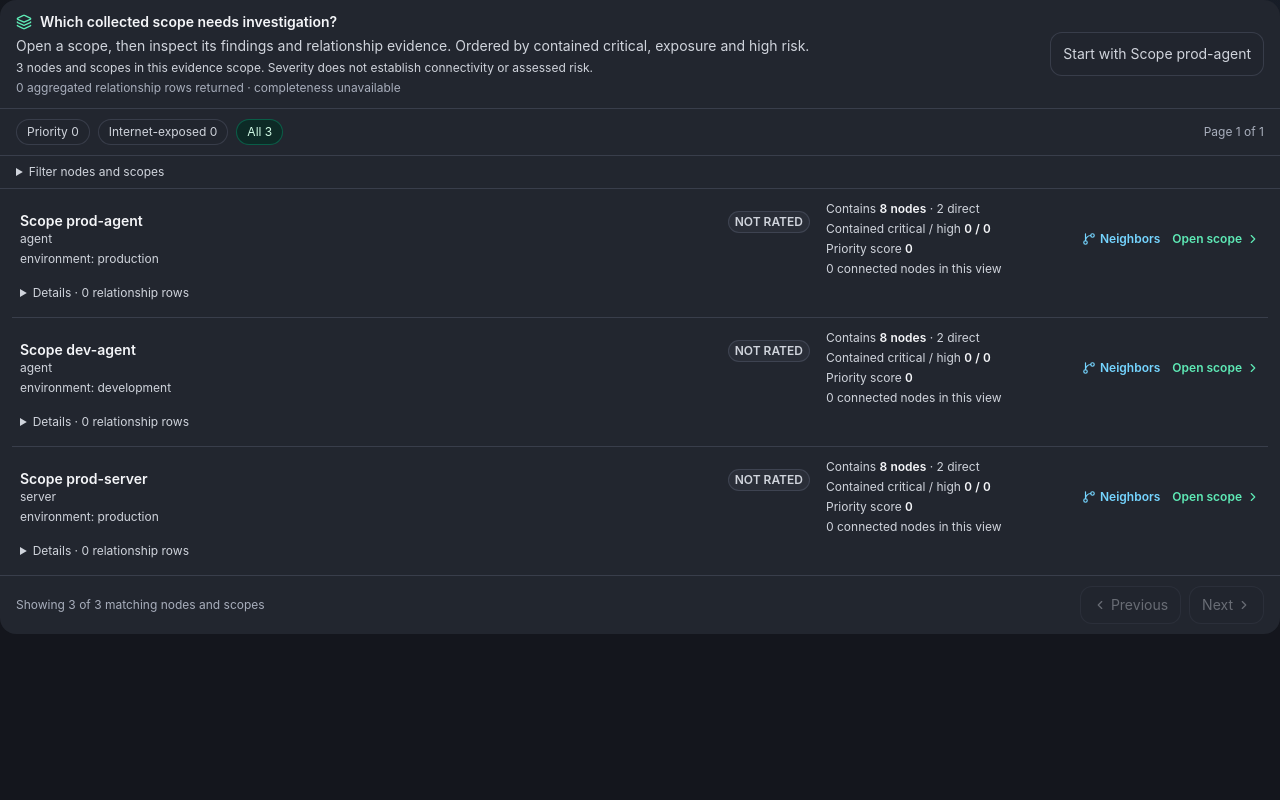
Test case: GraphRollupDecisionSurface › combines type and context search without inventing matches
Click the heading "Filter nodes and scopes": coordinates (97, 172) [29, 164, 164, 179]
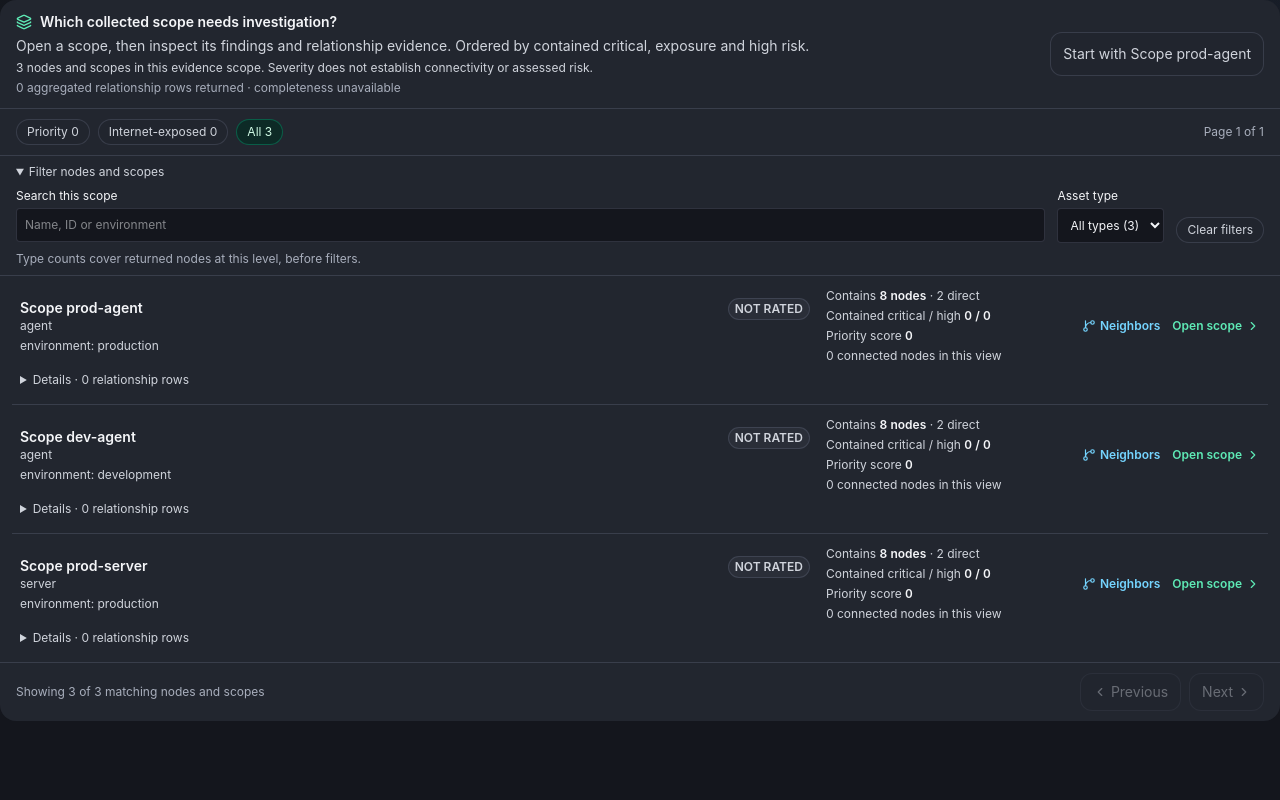
Select "agent (2)" in the dropdown labelled "Asset type": coordinates (1111, 226) [1058, 208, 1164, 243]
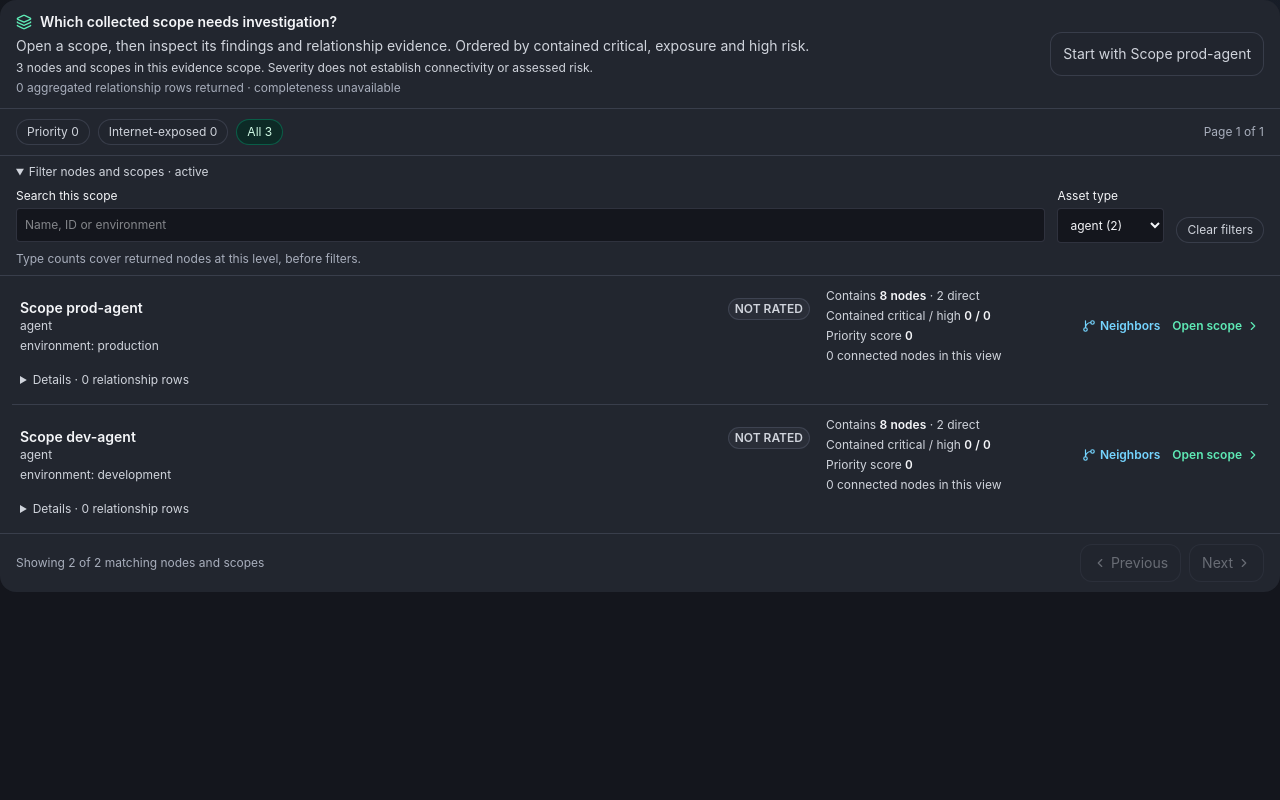
In the field labelled "Search this scope": coordinates (531, 225) [16, 208, 1046, 242], type "production"
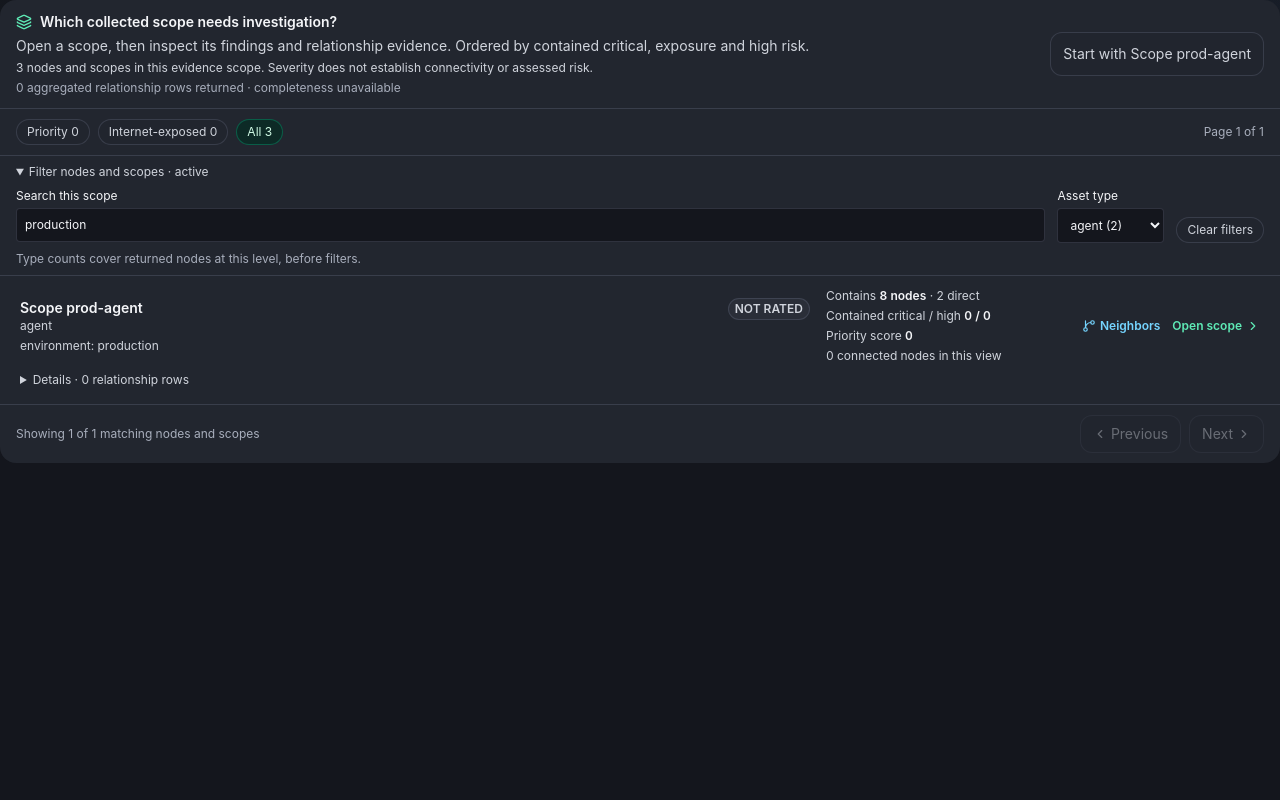
Expected: the text "Scope prod-agent" is shown, [20, 299, 143, 316]
Expected: the text "Scope dev-agent" is gone
Replace the text in the field labelled "Search this scope" with "absent": coordinates (531, 225) [16, 208, 1046, 242]
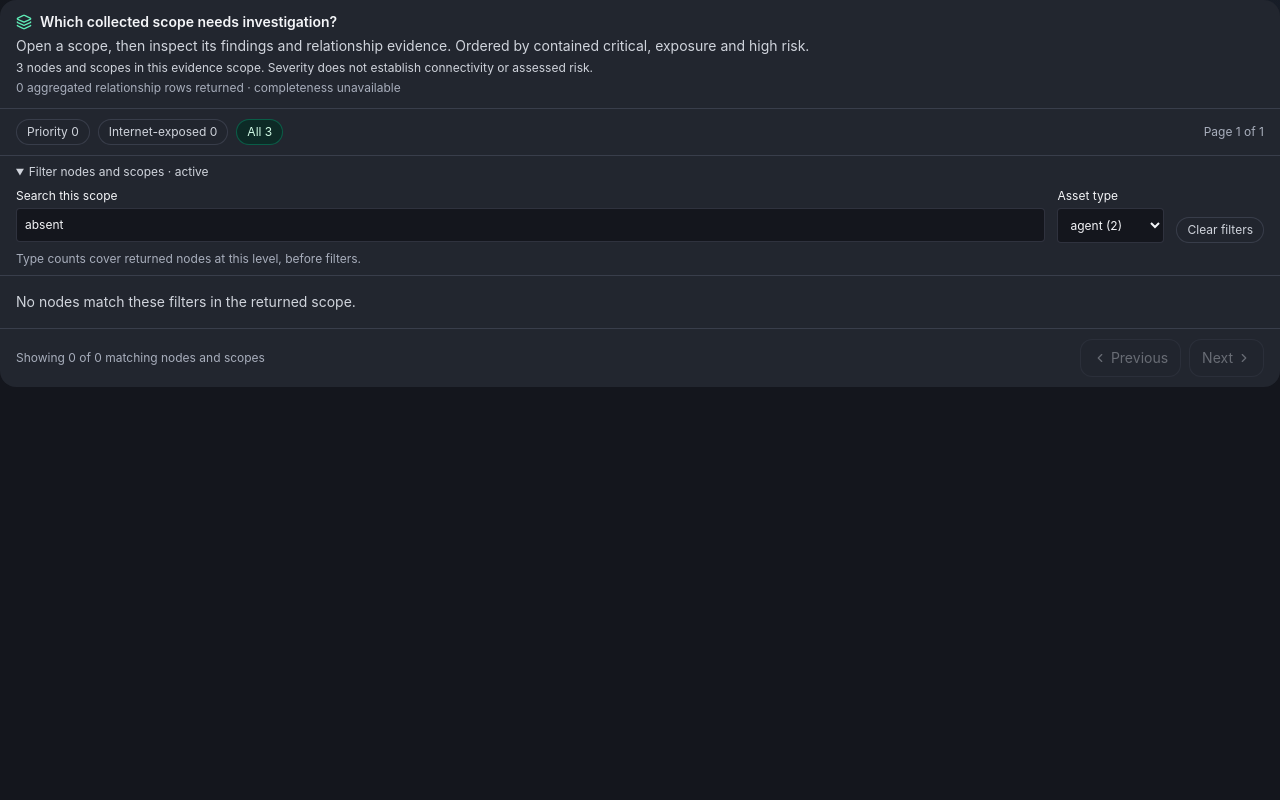
Expected: the message shows "No nodes match", [16, 293, 356, 310]
Click the button "Clear filters": coordinates (1220, 230) [1176, 217, 1264, 243]
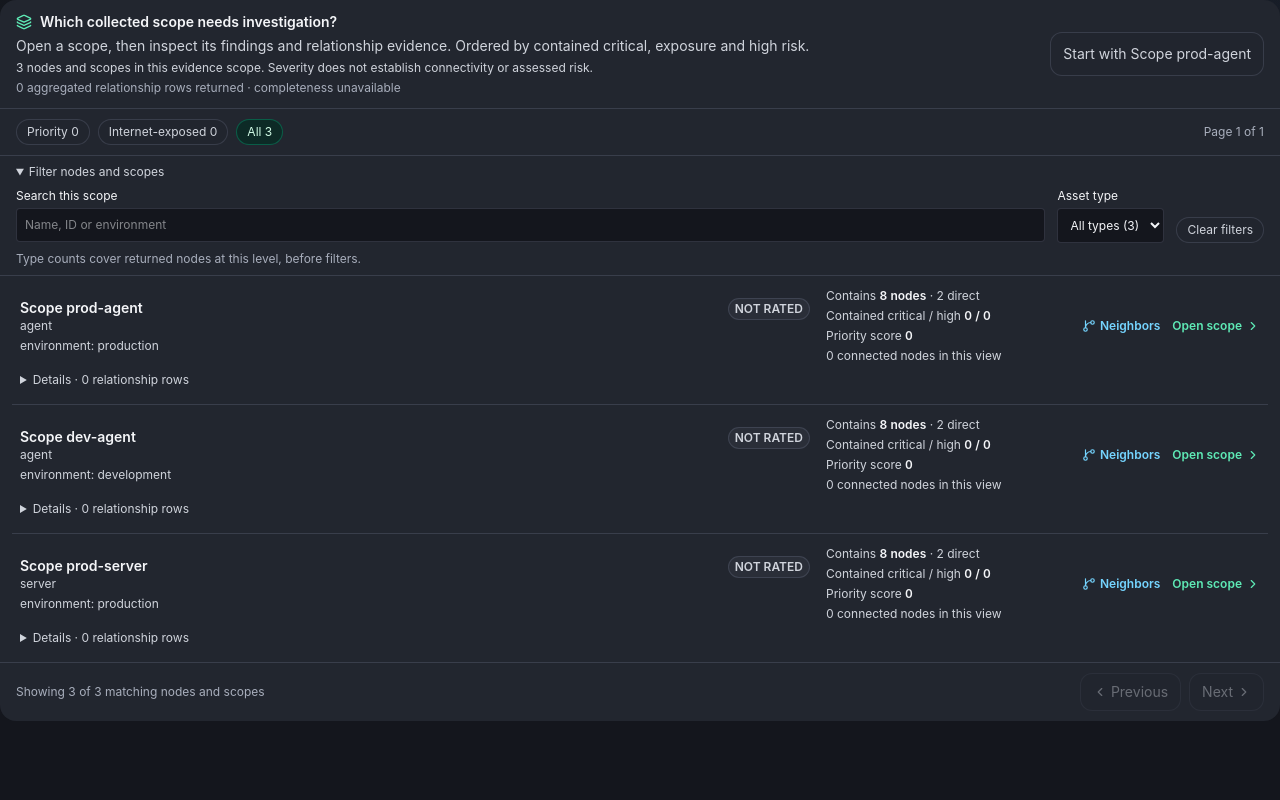
Expected: the text "Scope dev-agent" is shown, [20, 428, 136, 445]
